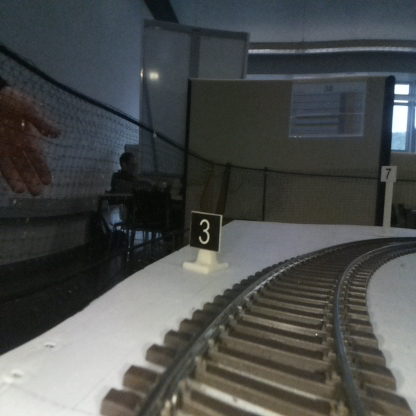black-stop-3: (190, 214, 221, 271)
white-info-7: (381, 165, 396, 232)
